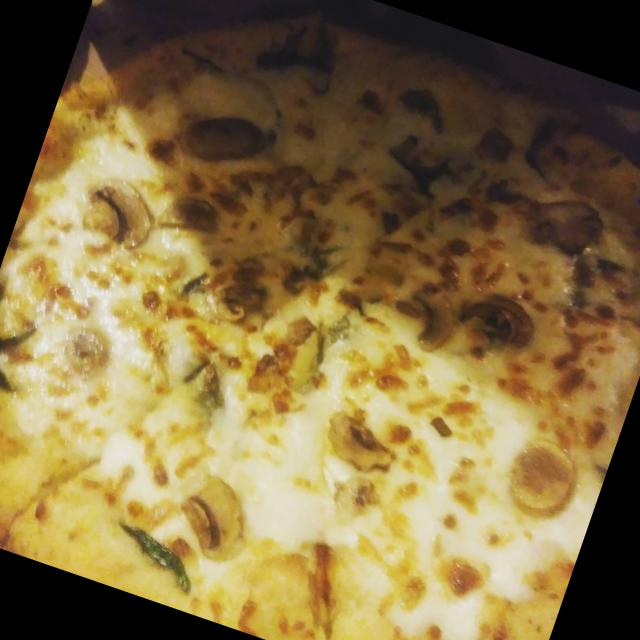mushrooms: (172, 466, 262, 554), (76, 170, 166, 254), (504, 432, 586, 520), (180, 103, 273, 174), (320, 406, 403, 476), (462, 286, 546, 354), (528, 186, 606, 257), (405, 283, 461, 355)
pizza: (0, 11, 640, 640)
